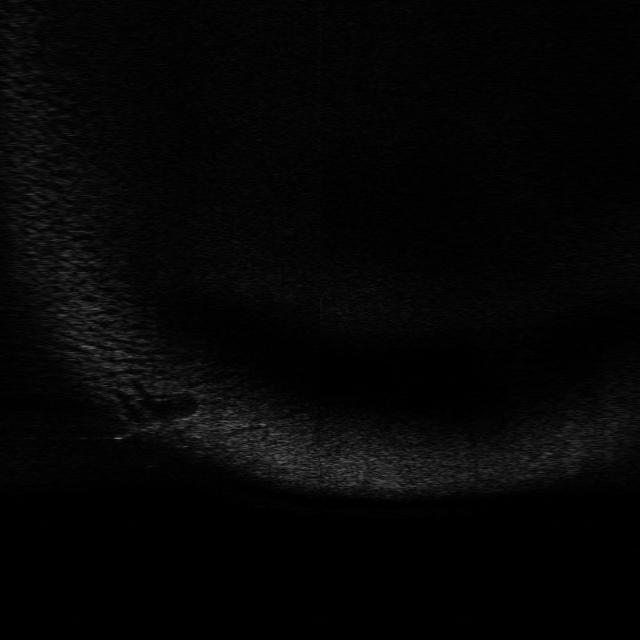plane: (107, 408, 198, 447)
